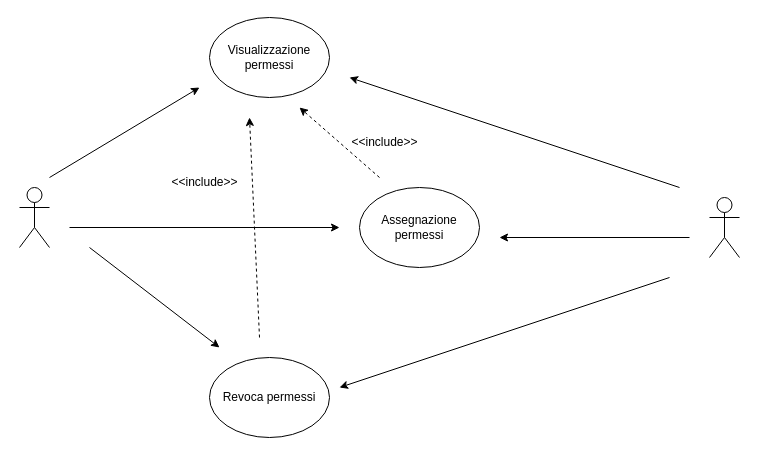
Image size: 777x455. Some labels were removed from this diagram. Each missing label, with the centre of its shape:
Admin: (x=34, y=217)
SchoolAdmin: (x=724, y=227)
